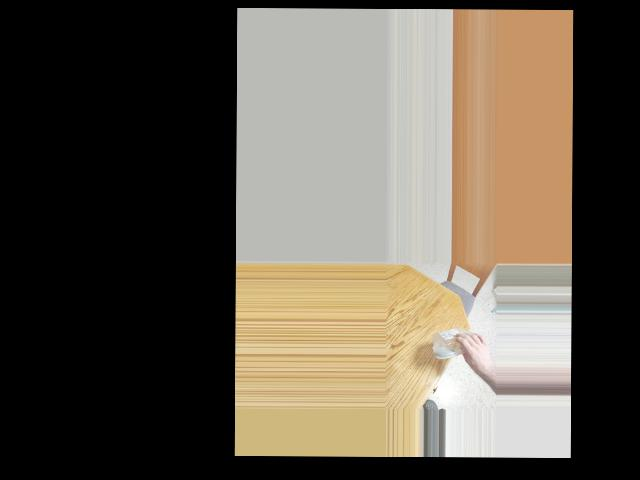cheese: (440, 326, 484, 363)
